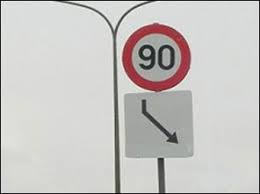Speed_limit_90km: (120, 23, 192, 92)
